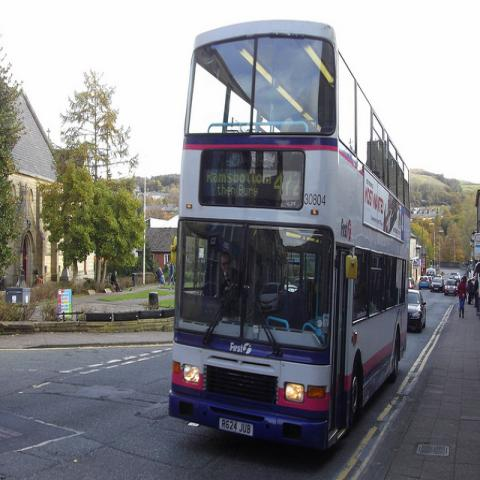bus: (167, 21, 410, 451)
car: (408, 288, 427, 332), (444, 279, 457, 297), (431, 277, 444, 293), (419, 276, 431, 290), (449, 271, 462, 281), (408, 276, 417, 290)
